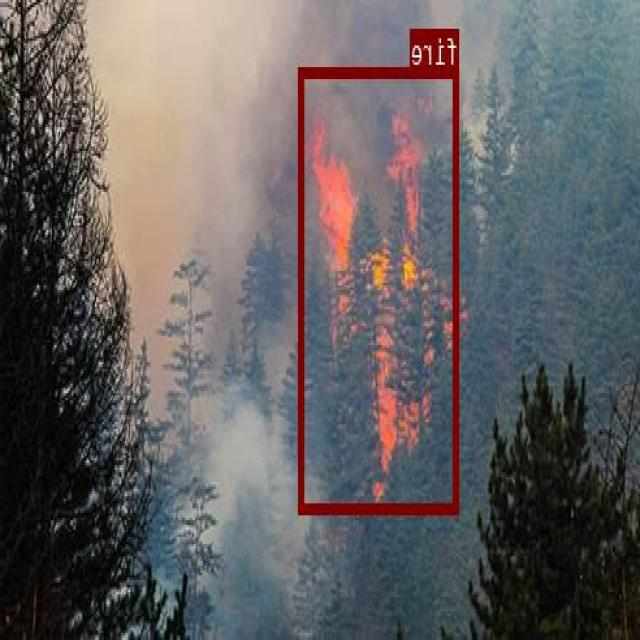fire: (299, 66, 460, 512)
